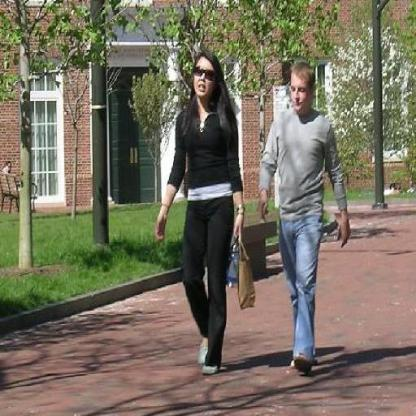person: (150, 46, 257, 386), (256, 54, 357, 370)
